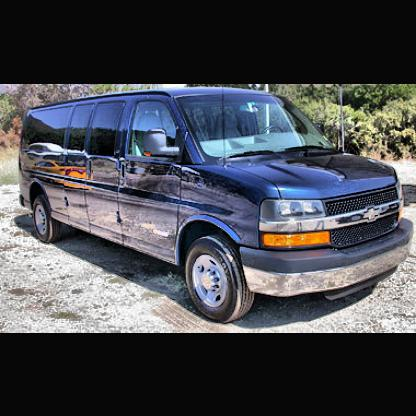Chevrolet Express Van 2007: (17, 85, 415, 325)
